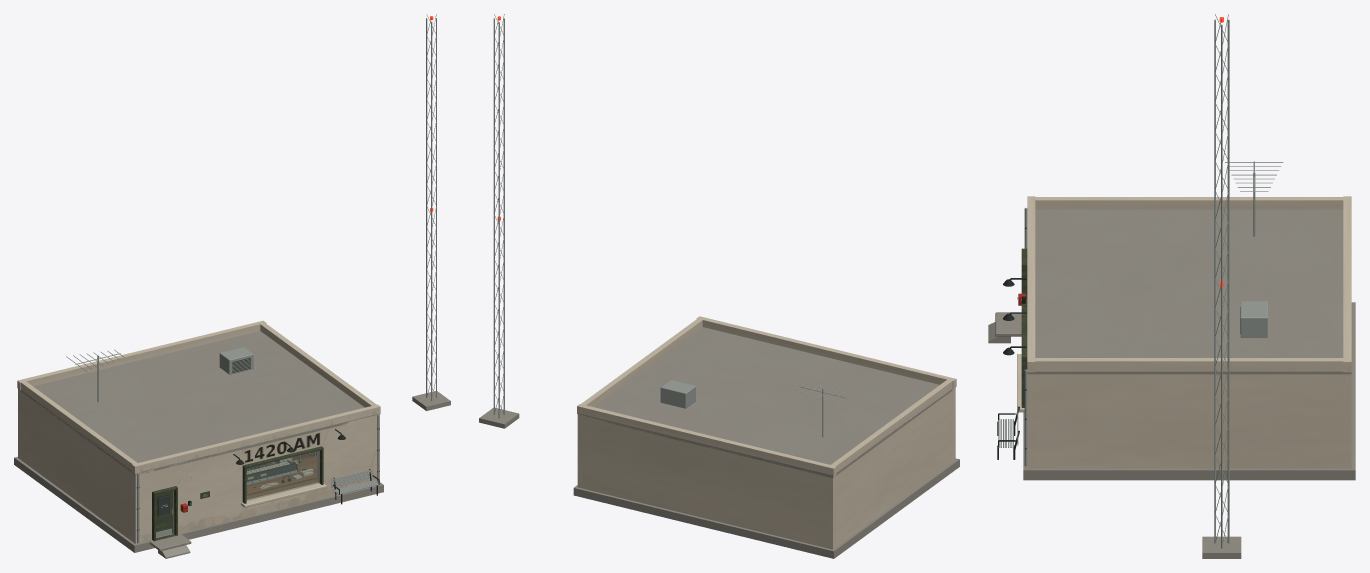
File: 1420_AM_station.glb
The picture shows the model from 3 angles, left to right: view 1: azimuth 30°, elevation 25°; view 2: azimuth 150°, elevation 25°; view 3: azimuth 270°, elevation 25°; orthographic projection. The views are drawn at different scales.
Visible parts, largest first — view 1: SM_1420_Shell, SM_1420_Mast, SM_1420_Glass, SM_1420_Interior, SM_1420_Door; view 2: SM_1420_Shell, SM_1420_Mast; view 3: SM_1420_Shell, SM_1420_Mast.
Part boxes in pixels (<box>): SM_1420_Shell: <box>14,320,383,558</box>; SM_1420_Mast: <box>412,14,450,410</box>; SM_1420_Glass: <box>246,451,319,500</box>; SM_1420_Interior: <box>246,451,317,499</box>; SM_1420_Door: <box>156,490,172,537</box>; SM_1420_Shell: <box>573,316,959,558</box>; SM_1420_Mast: <box>479,14,519,428</box>; SM_1420_Shell: <box>988,161,1355,480</box>; SM_1420_Mast: <box>1202,14,1241,558</box>.
Bounding box in the file's own units: 18.73 × 18.6 × 11.32.
24 materials, 8 textured.
